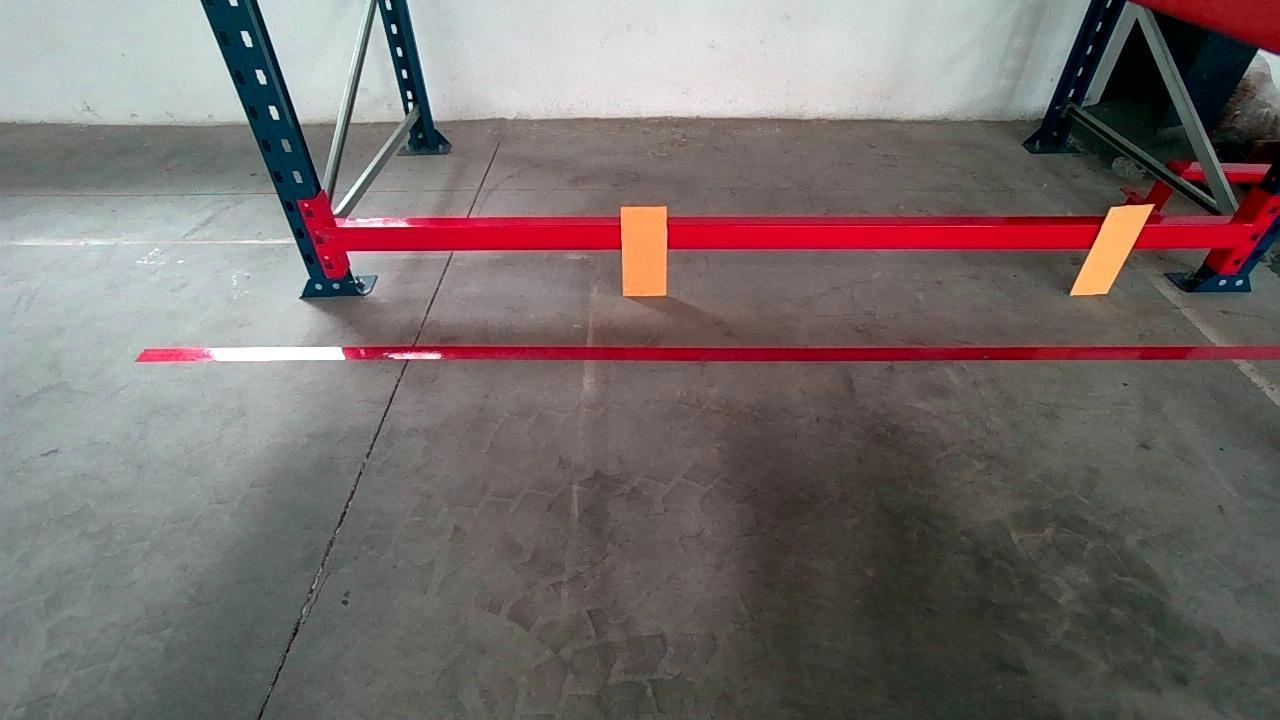h_rack: (334, 225, 1248, 249)
orange_strip: (1071, 205, 1155, 293), (622, 205, 668, 294)
red_line: (135, 343, 1280, 361)
